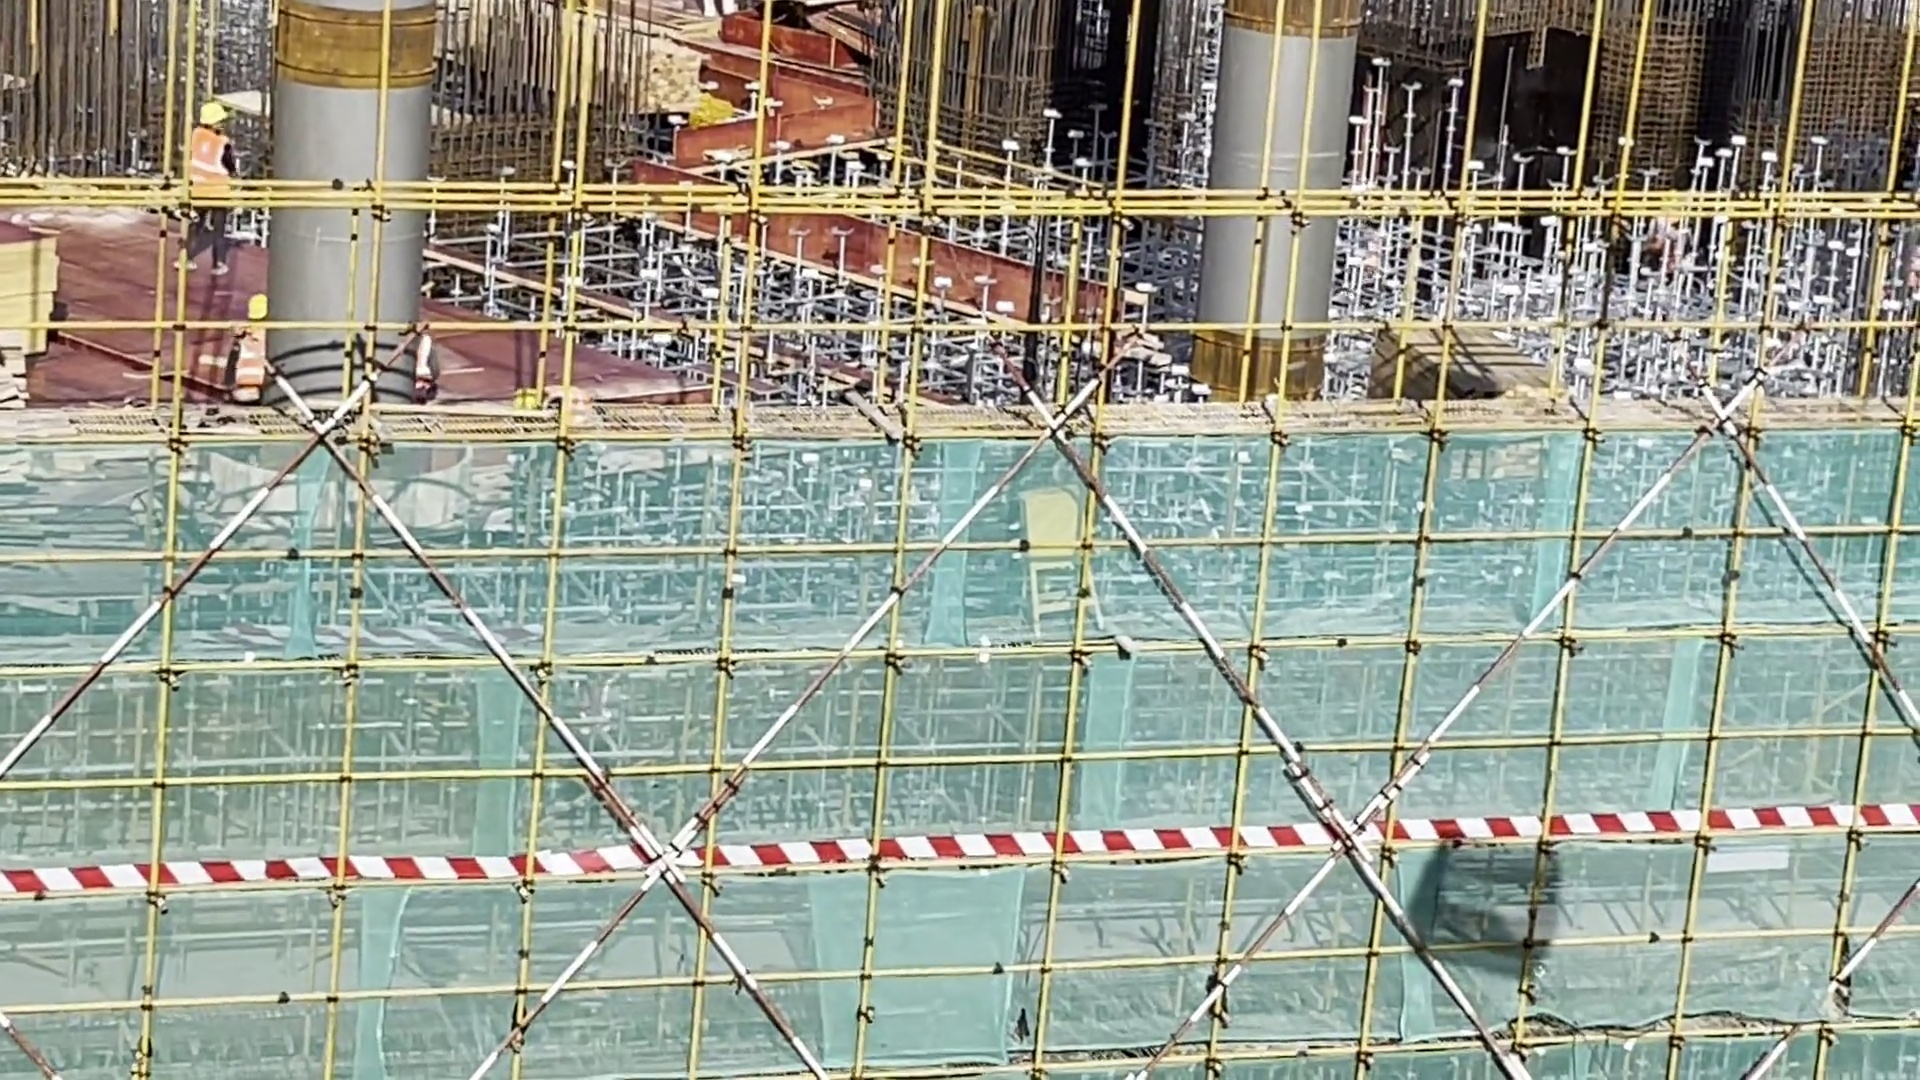helmet: (193, 99, 230, 133), (244, 293, 274, 324)
person: (177, 95, 244, 281), (220, 293, 283, 433), (406, 308, 455, 419)
vest: (183, 129, 235, 200), (230, 331, 280, 398)
